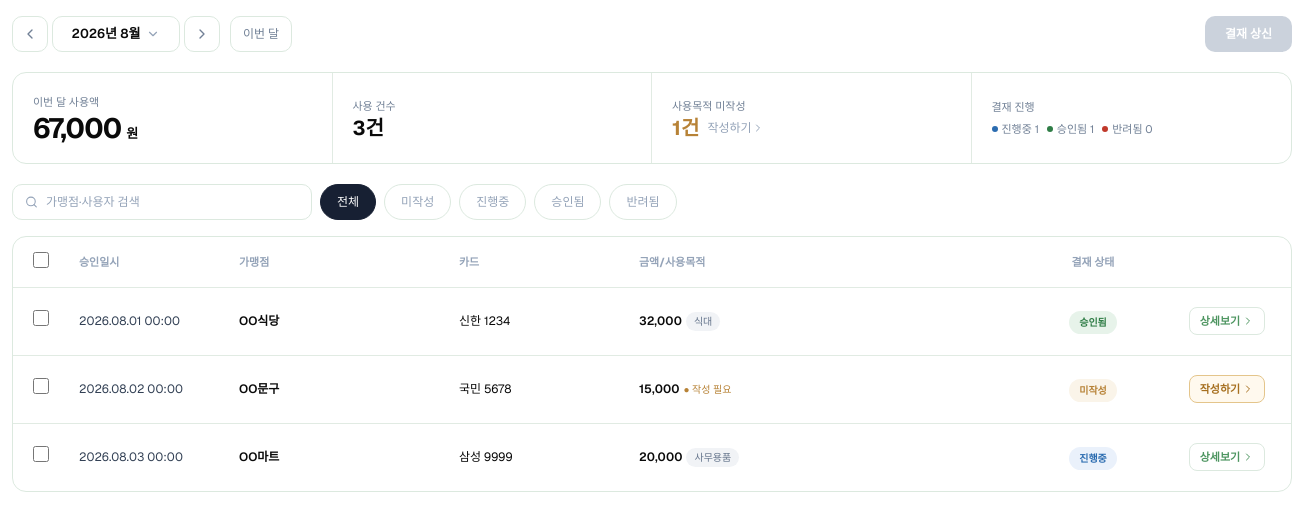
Test: FinanceCorporateCardManagement › 결재 상신에 성공하면 성공 토스트를 노출하고 선택을 초기화한다
This screenshot has width=1304, height=509.
Click the checkbox named "OO식당 선택": (41, 318) [33,310,49,326]
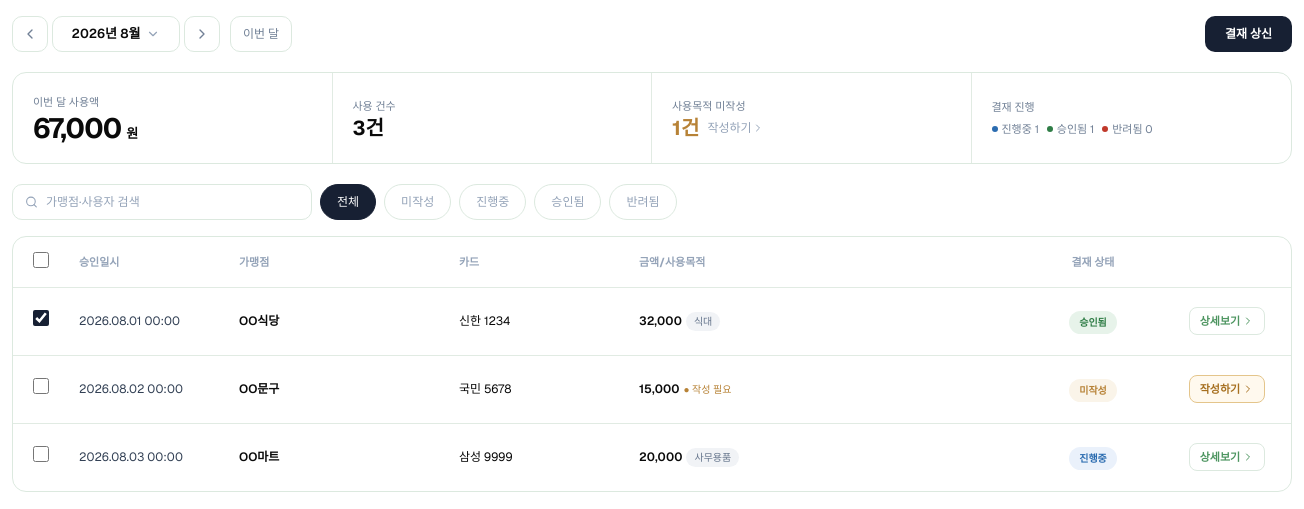
Click the button "결재 상신": (1248, 34) [1205,16,1292,52]
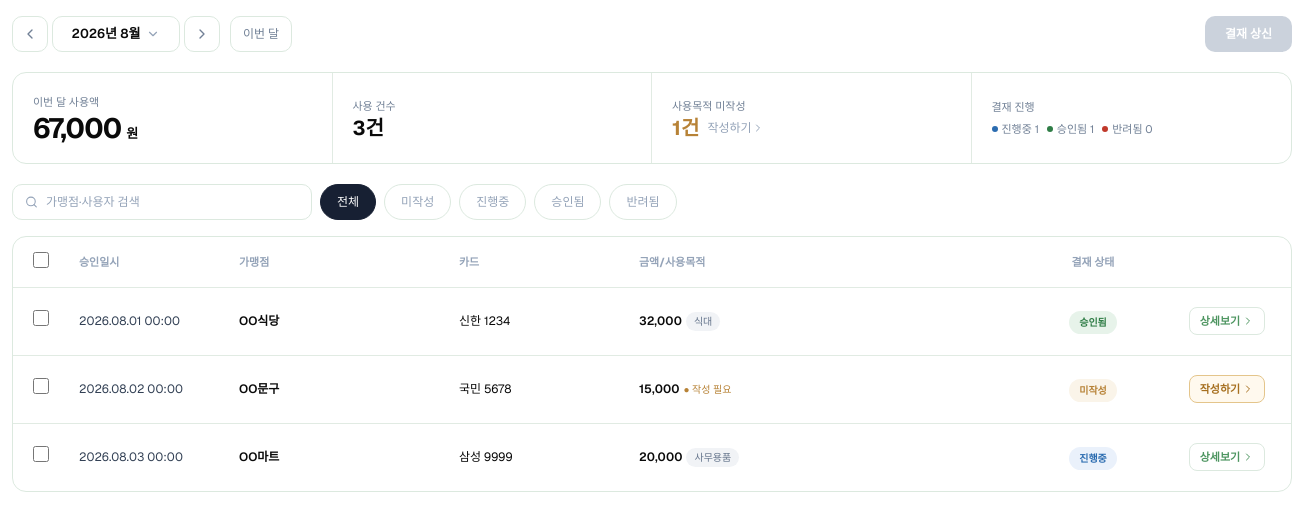
Now the button "결재 상신" is disabled, box [1205,16,1292,52]
